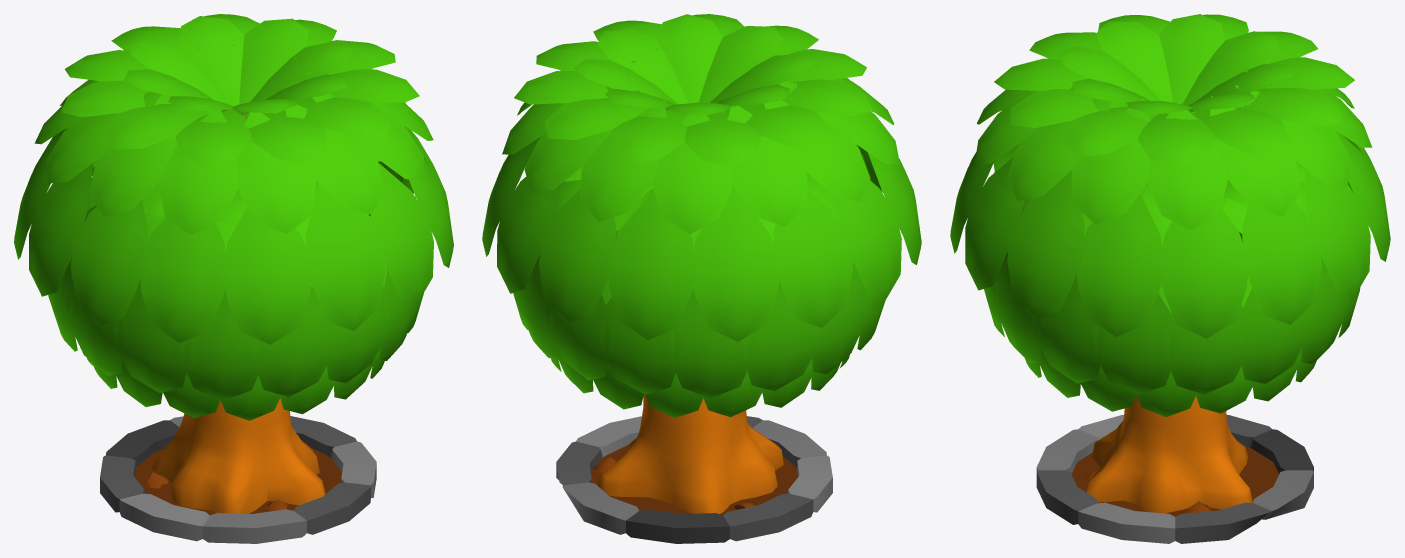
The model's file is Tree_01.fbx.
3 views of the same model, side by side, from view 1: azimuth 30°, elevation 25°; view 2: azimuth 150°, elevation 25°; view 3: azimuth 270°, elevation 25° (orthographic).
Visible parts, largest first — view 1: Tree_01; view 2: Tree_01; view 3: Tree_01.
Boxes of the visible parts, x1,y1,x2,y2 form: Tree_01: [14, 14, 453, 543]; Tree_01: [482, 14, 921, 543]; Tree_01: [950, 14, 1390, 543].
Bounding box in the file's own units: 283 × 301 × 283.
